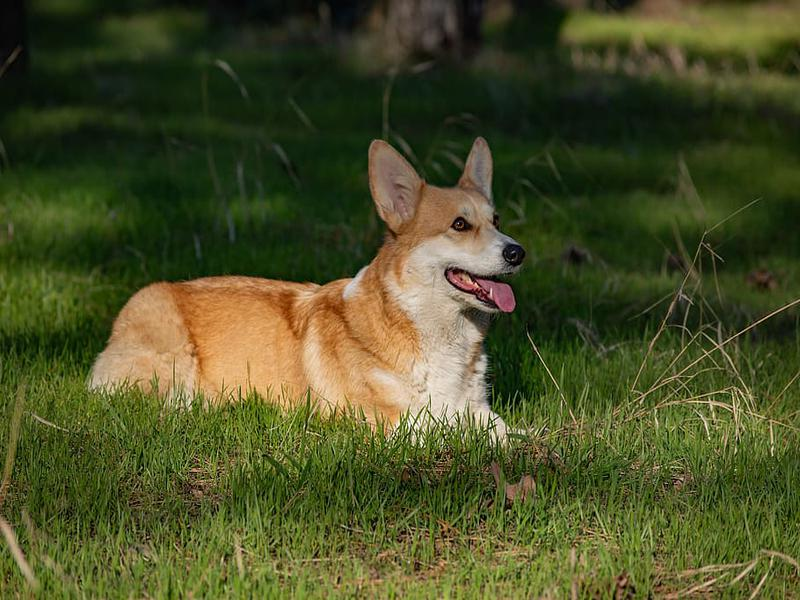corgi: (366, 135, 529, 321)
